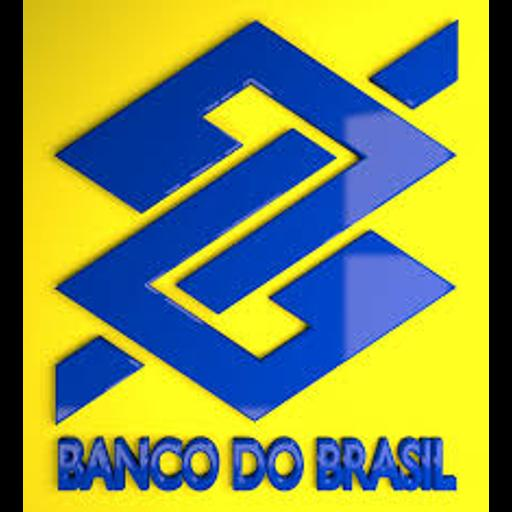Banco do Brasil S-A: (23, 0, 489, 512)
